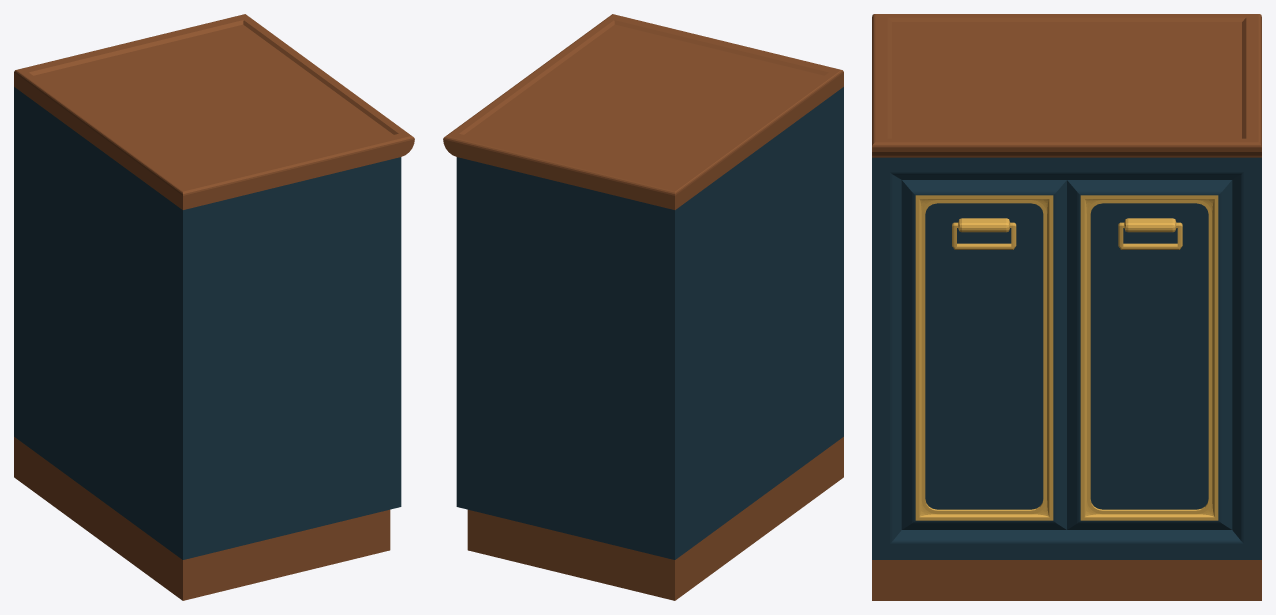
Rendered from KitchenModule_2.fbx.
3 renders of one model, left to right at view 1: azimuth 30°, elevation 25°; view 2: azimuth 150°, elevation 25°; view 3: azimuth 270°, elevation 25°, orthographic. The views are drawn at different scales.
Visible parts, largest first — view 1: KitchenModule-2; view 2: KitchenModule-2; view 3: KitchenModule-2, Handle.010, Handle.011.
Boxes of the visible parts, box(x1,y1,x2,y2) form: KitchenModule-2: box(14, 14, 414, 600); KitchenModule-2: box(443, 14, 843, 600); KitchenModule-2: box(872, 14, 1261, 600); Handle.010: box(1118, 218, 1182, 249); Handle.011: box(952, 218, 1016, 249).
Size of the model in its own units: 119 by 200 by 150.
